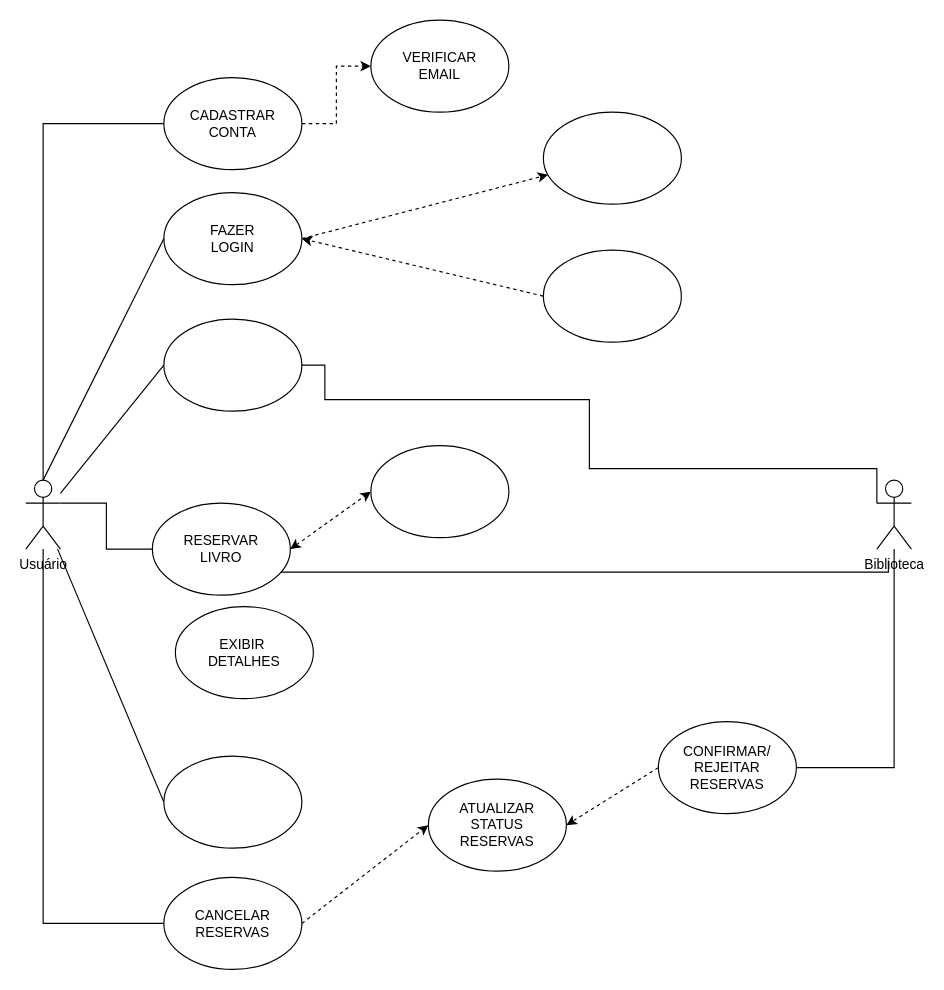
The diagram is 944 pixels wide and 990 high, and some of its shapes have lost their labels. The centre of each missing label's shape, as x and y in pixels:
BUSCAR LIVROS: (x=232, y=364)
EXIBIR ERRO LOGIN: (x=611, y=295)
VERICAR SENHA: (x=611, y=157)
VERIFICAR DISPONIBILIDADE: (x=439, y=491)
VISUALIZAR STATUS RESERVAS: (x=232, y=801)
